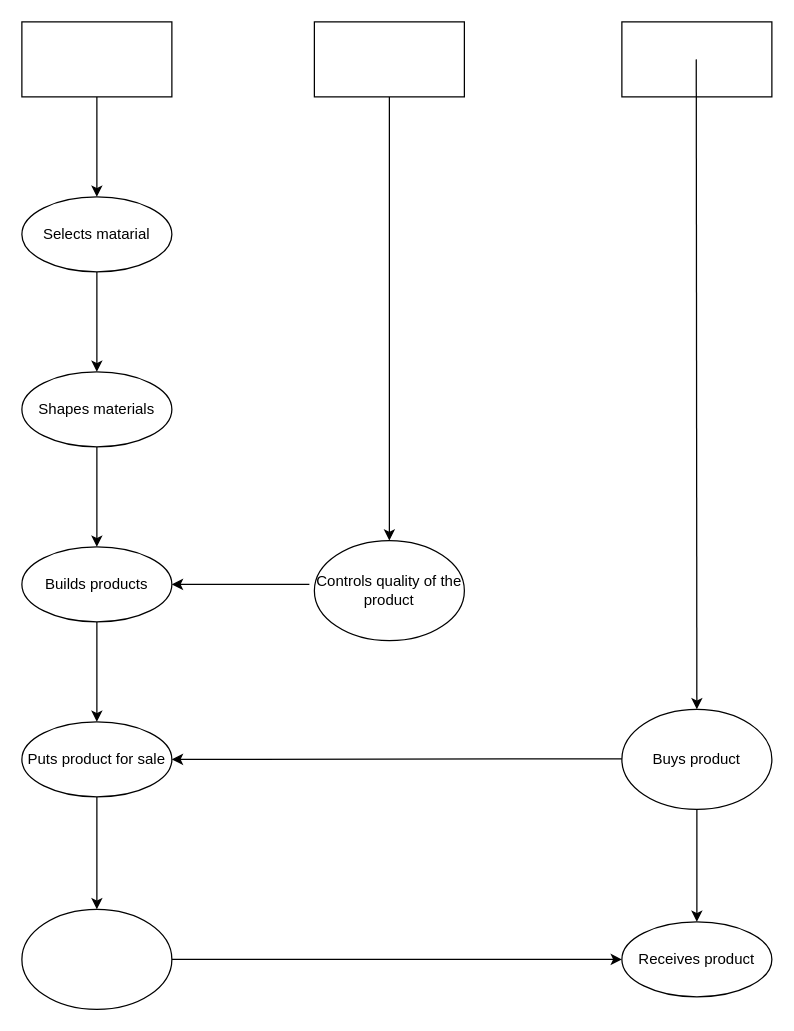
The diagram is 794 pixels wide and 1031 high, and some of its shapes have lost their labels. The shapes that lost their labels are listed below. From the top down, each one's centre as x and y in pixels, then its label:
the point at 96,59: PRODUCER
the point at 388,59: QUALITY CONTROLLER
the point at 696,59: CONSUMER
the point at 96,958: Delivers product
